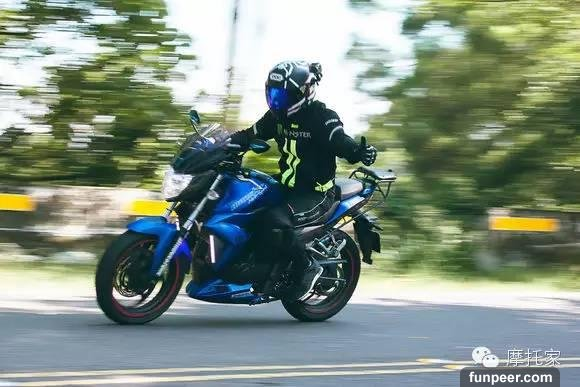helmet: (265, 59, 320, 112)
